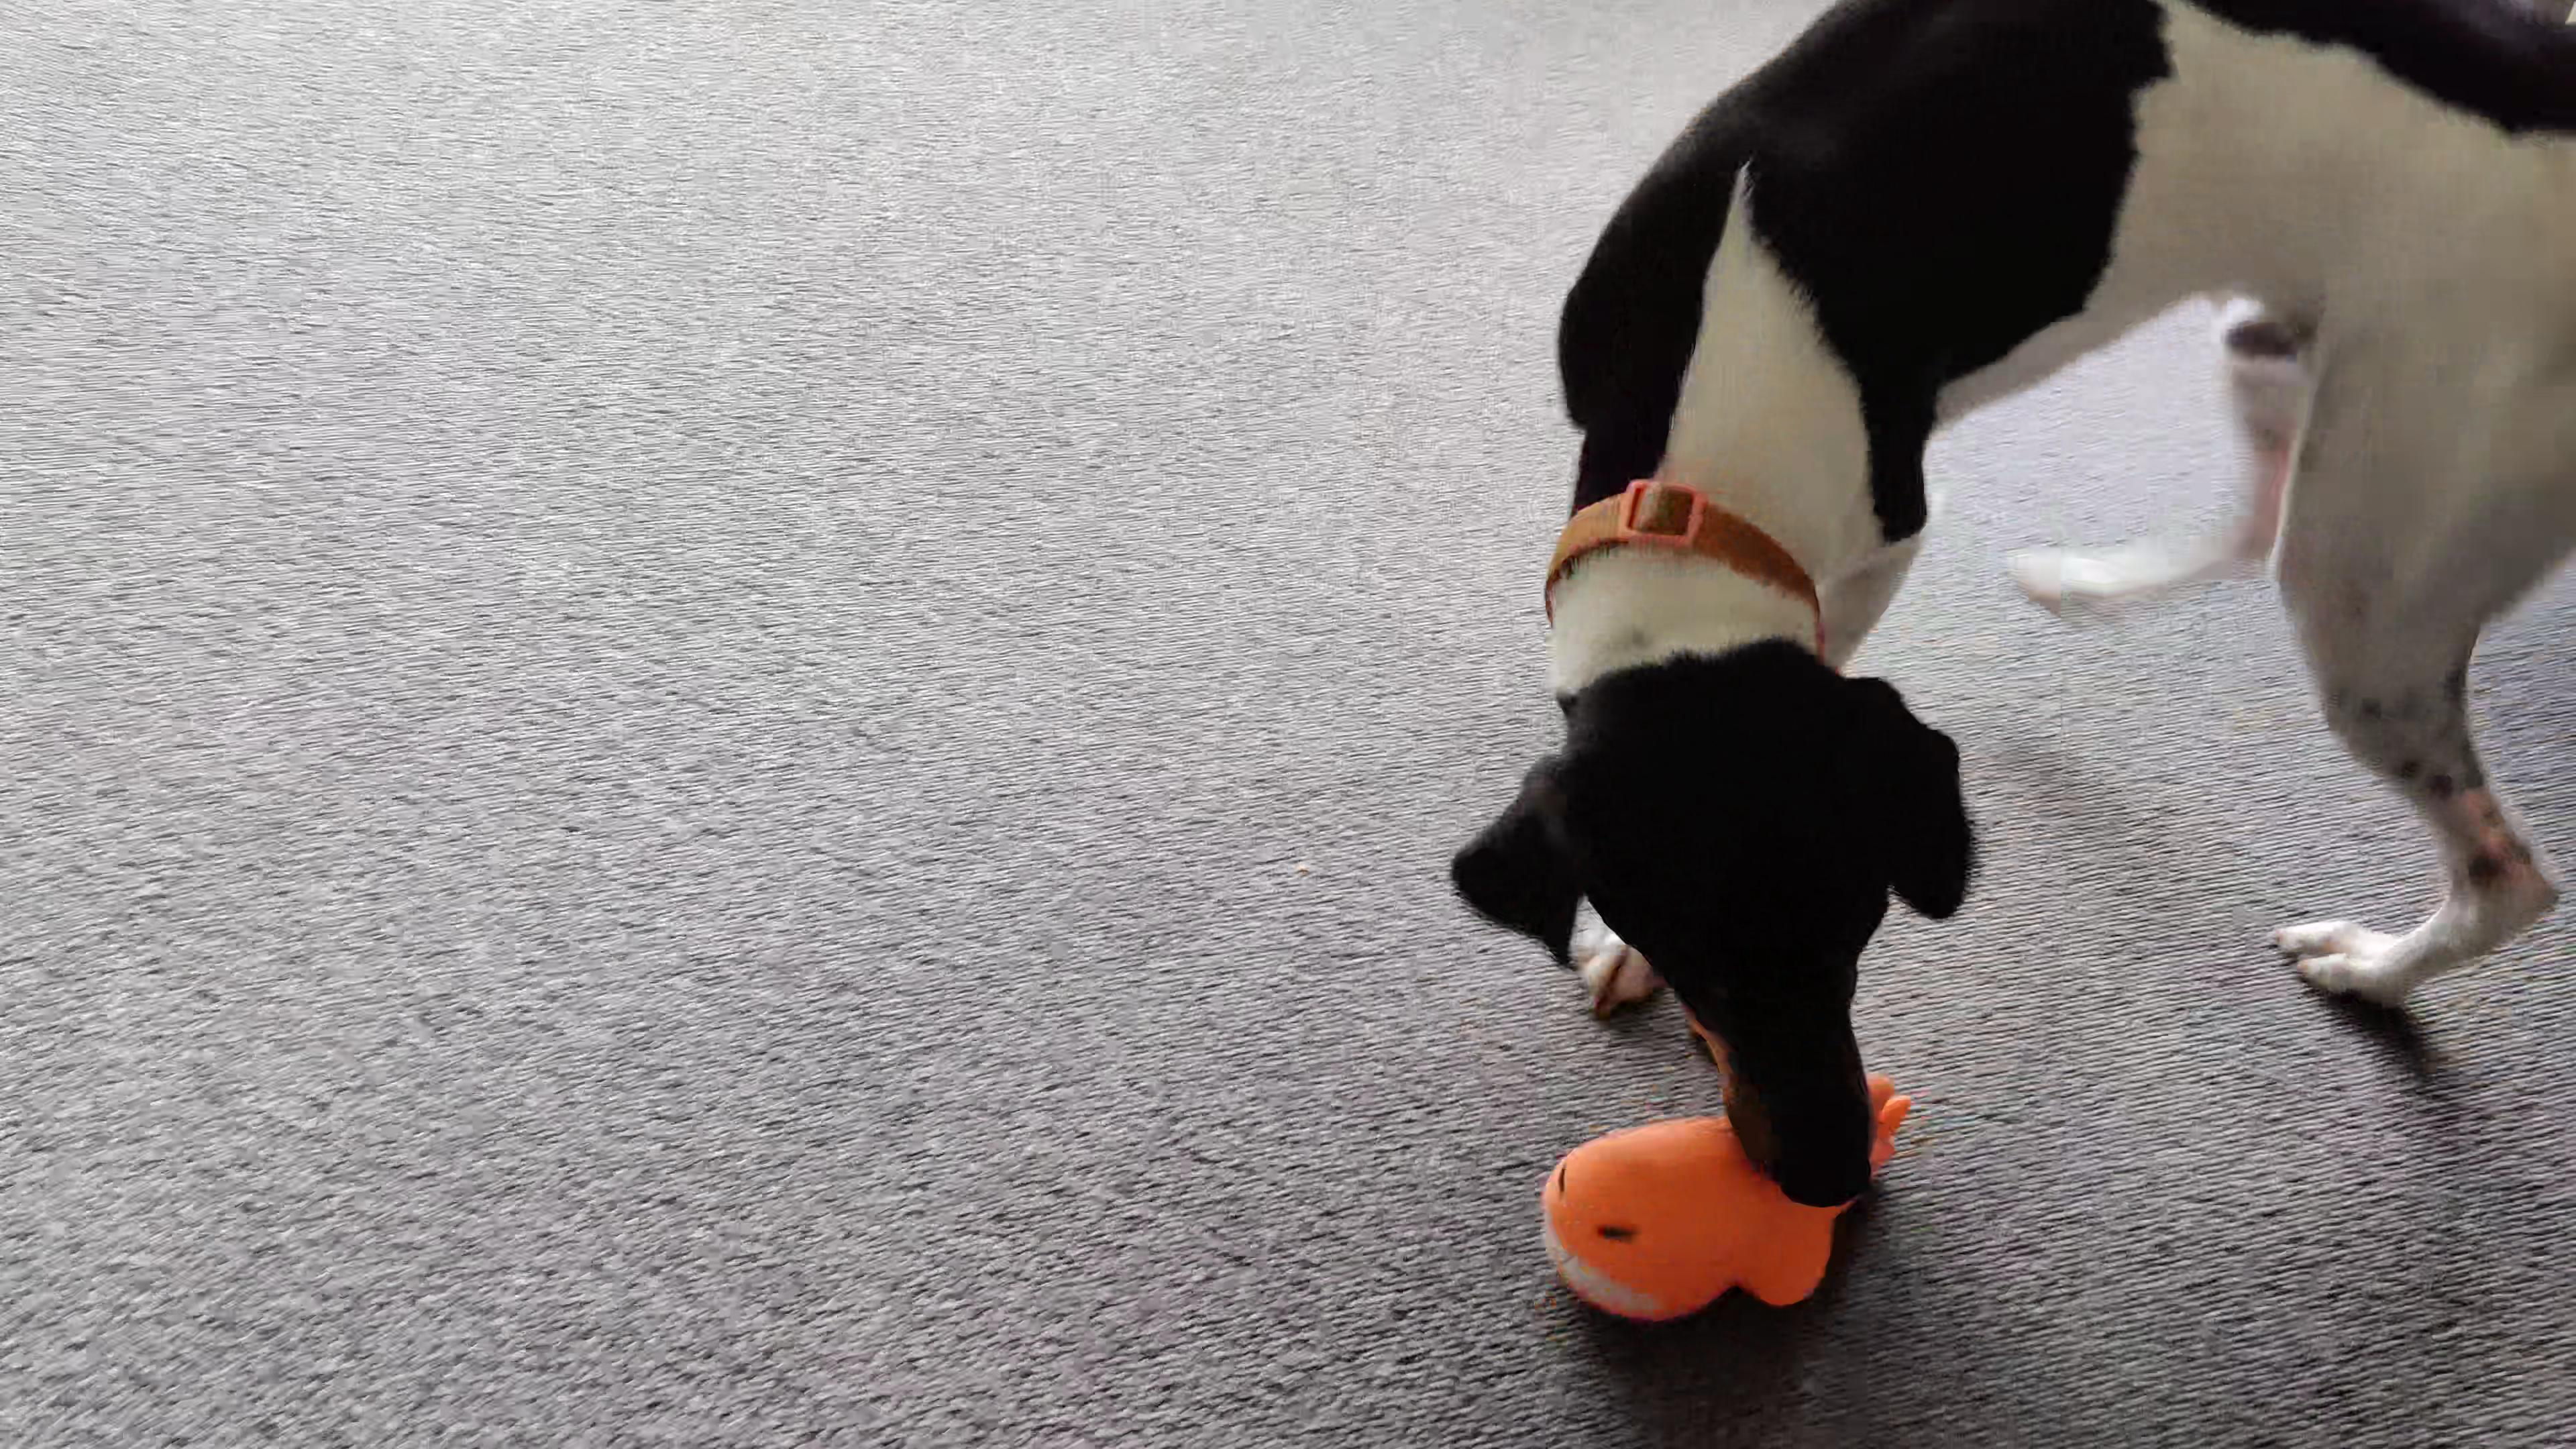Dog: (1433, 0, 2576, 1223)
